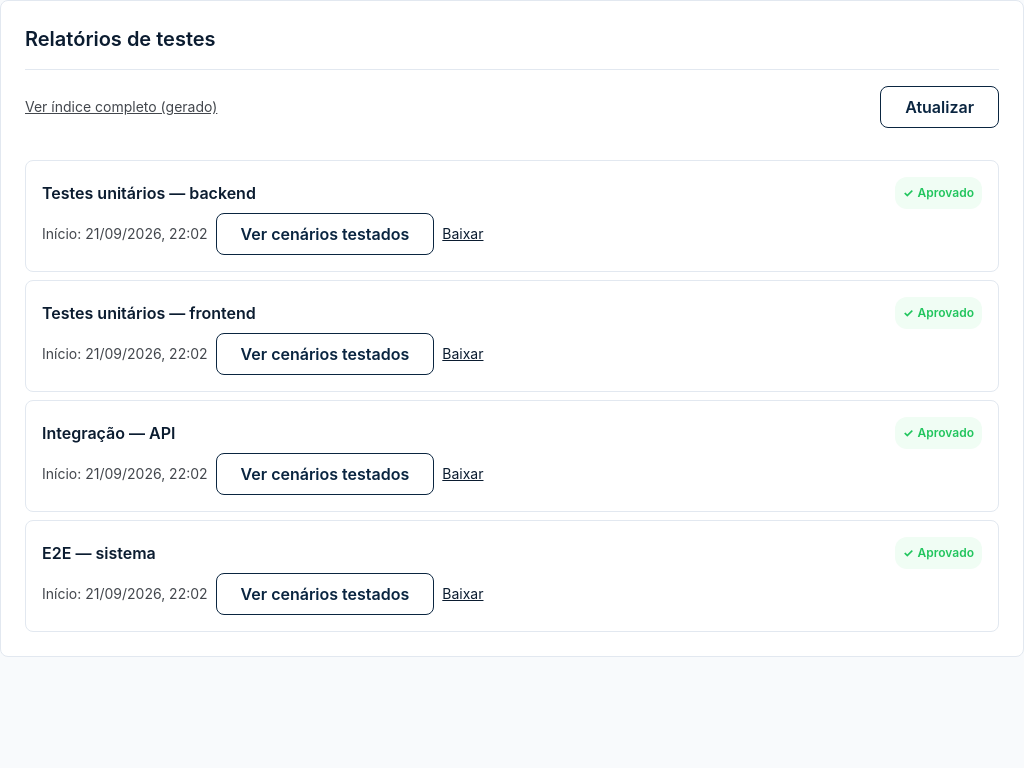
Test: RelatoriosView › "Ver cenários testados" busca e exibe o log sem sair do app
The width and height of the screenshot is (1024, 768).
Step 1. Click the button "Ver cenários testados" below "Testes unitários — backend" → (325, 234), box [216,213,434,255]
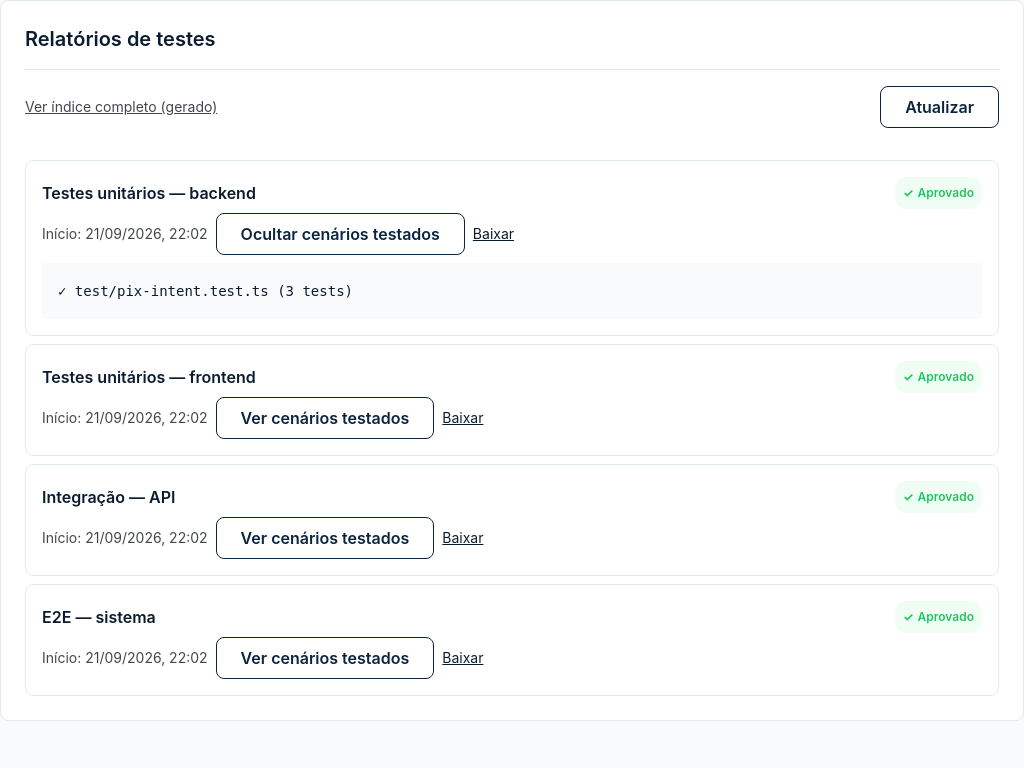
Now the text "test/pix-intent.test.ts (3 tests)" is shown, box [58,283,353,299]
Now the text "Ocultar cenários testados" is shown, box [216,213,465,255]
